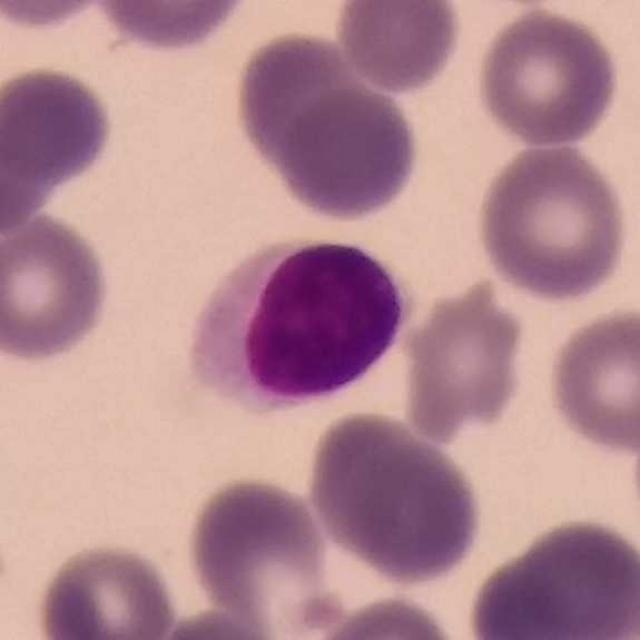Lymphocyte: (171, 231, 413, 434)
RBC: (302, 406, 488, 589), (472, 138, 632, 306), (180, 471, 335, 635), (230, 27, 378, 185), (398, 274, 530, 445), (464, 513, 640, 640), (472, 5, 622, 149), (274, 81, 423, 225), (0, 206, 115, 366), (1, 63, 117, 215), (32, 537, 180, 640), (543, 302, 640, 458), (332, 0, 465, 97), (1, 74, 59, 240), (92, 0, 254, 56), (302, 592, 470, 640), (136, 607, 289, 640), (0, 0, 118, 32), (626, 391, 640, 554)
